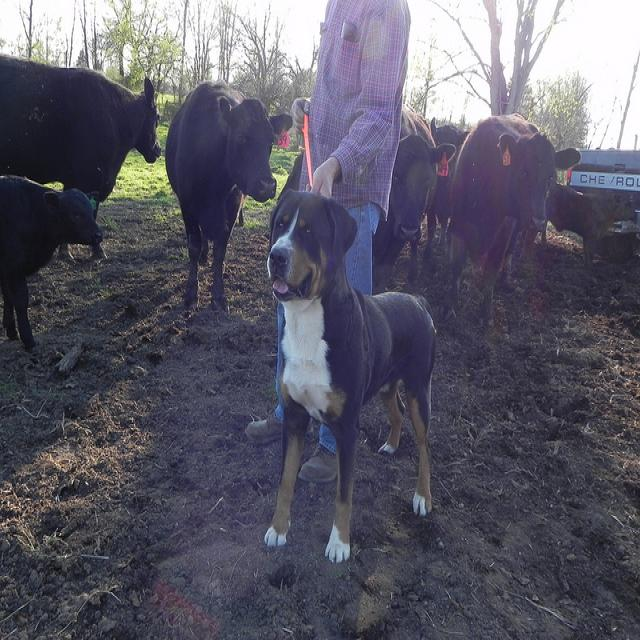Vehicle: (565, 139, 640, 264)
